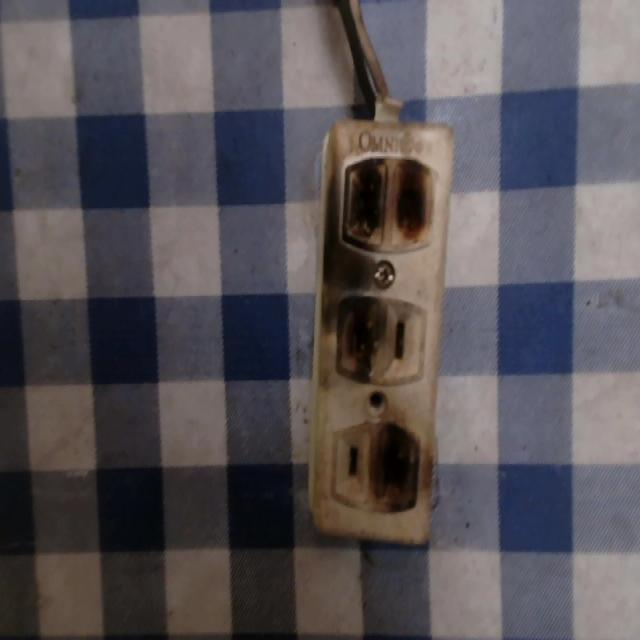-: (327, 141, 444, 256), (370, 420, 438, 517), (323, 288, 385, 385)
